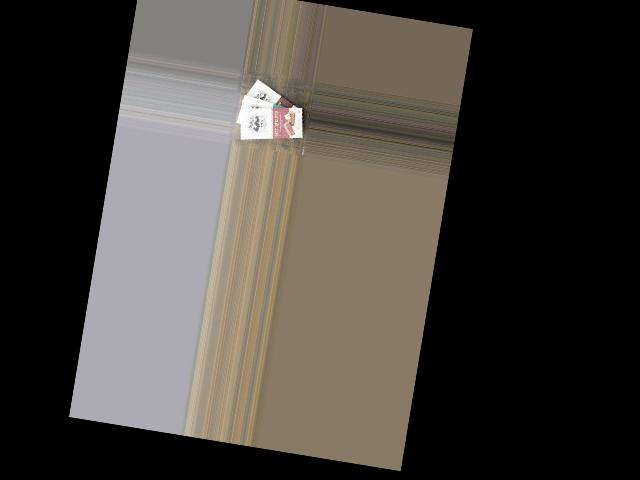chocolate: (237, 76, 310, 128)
